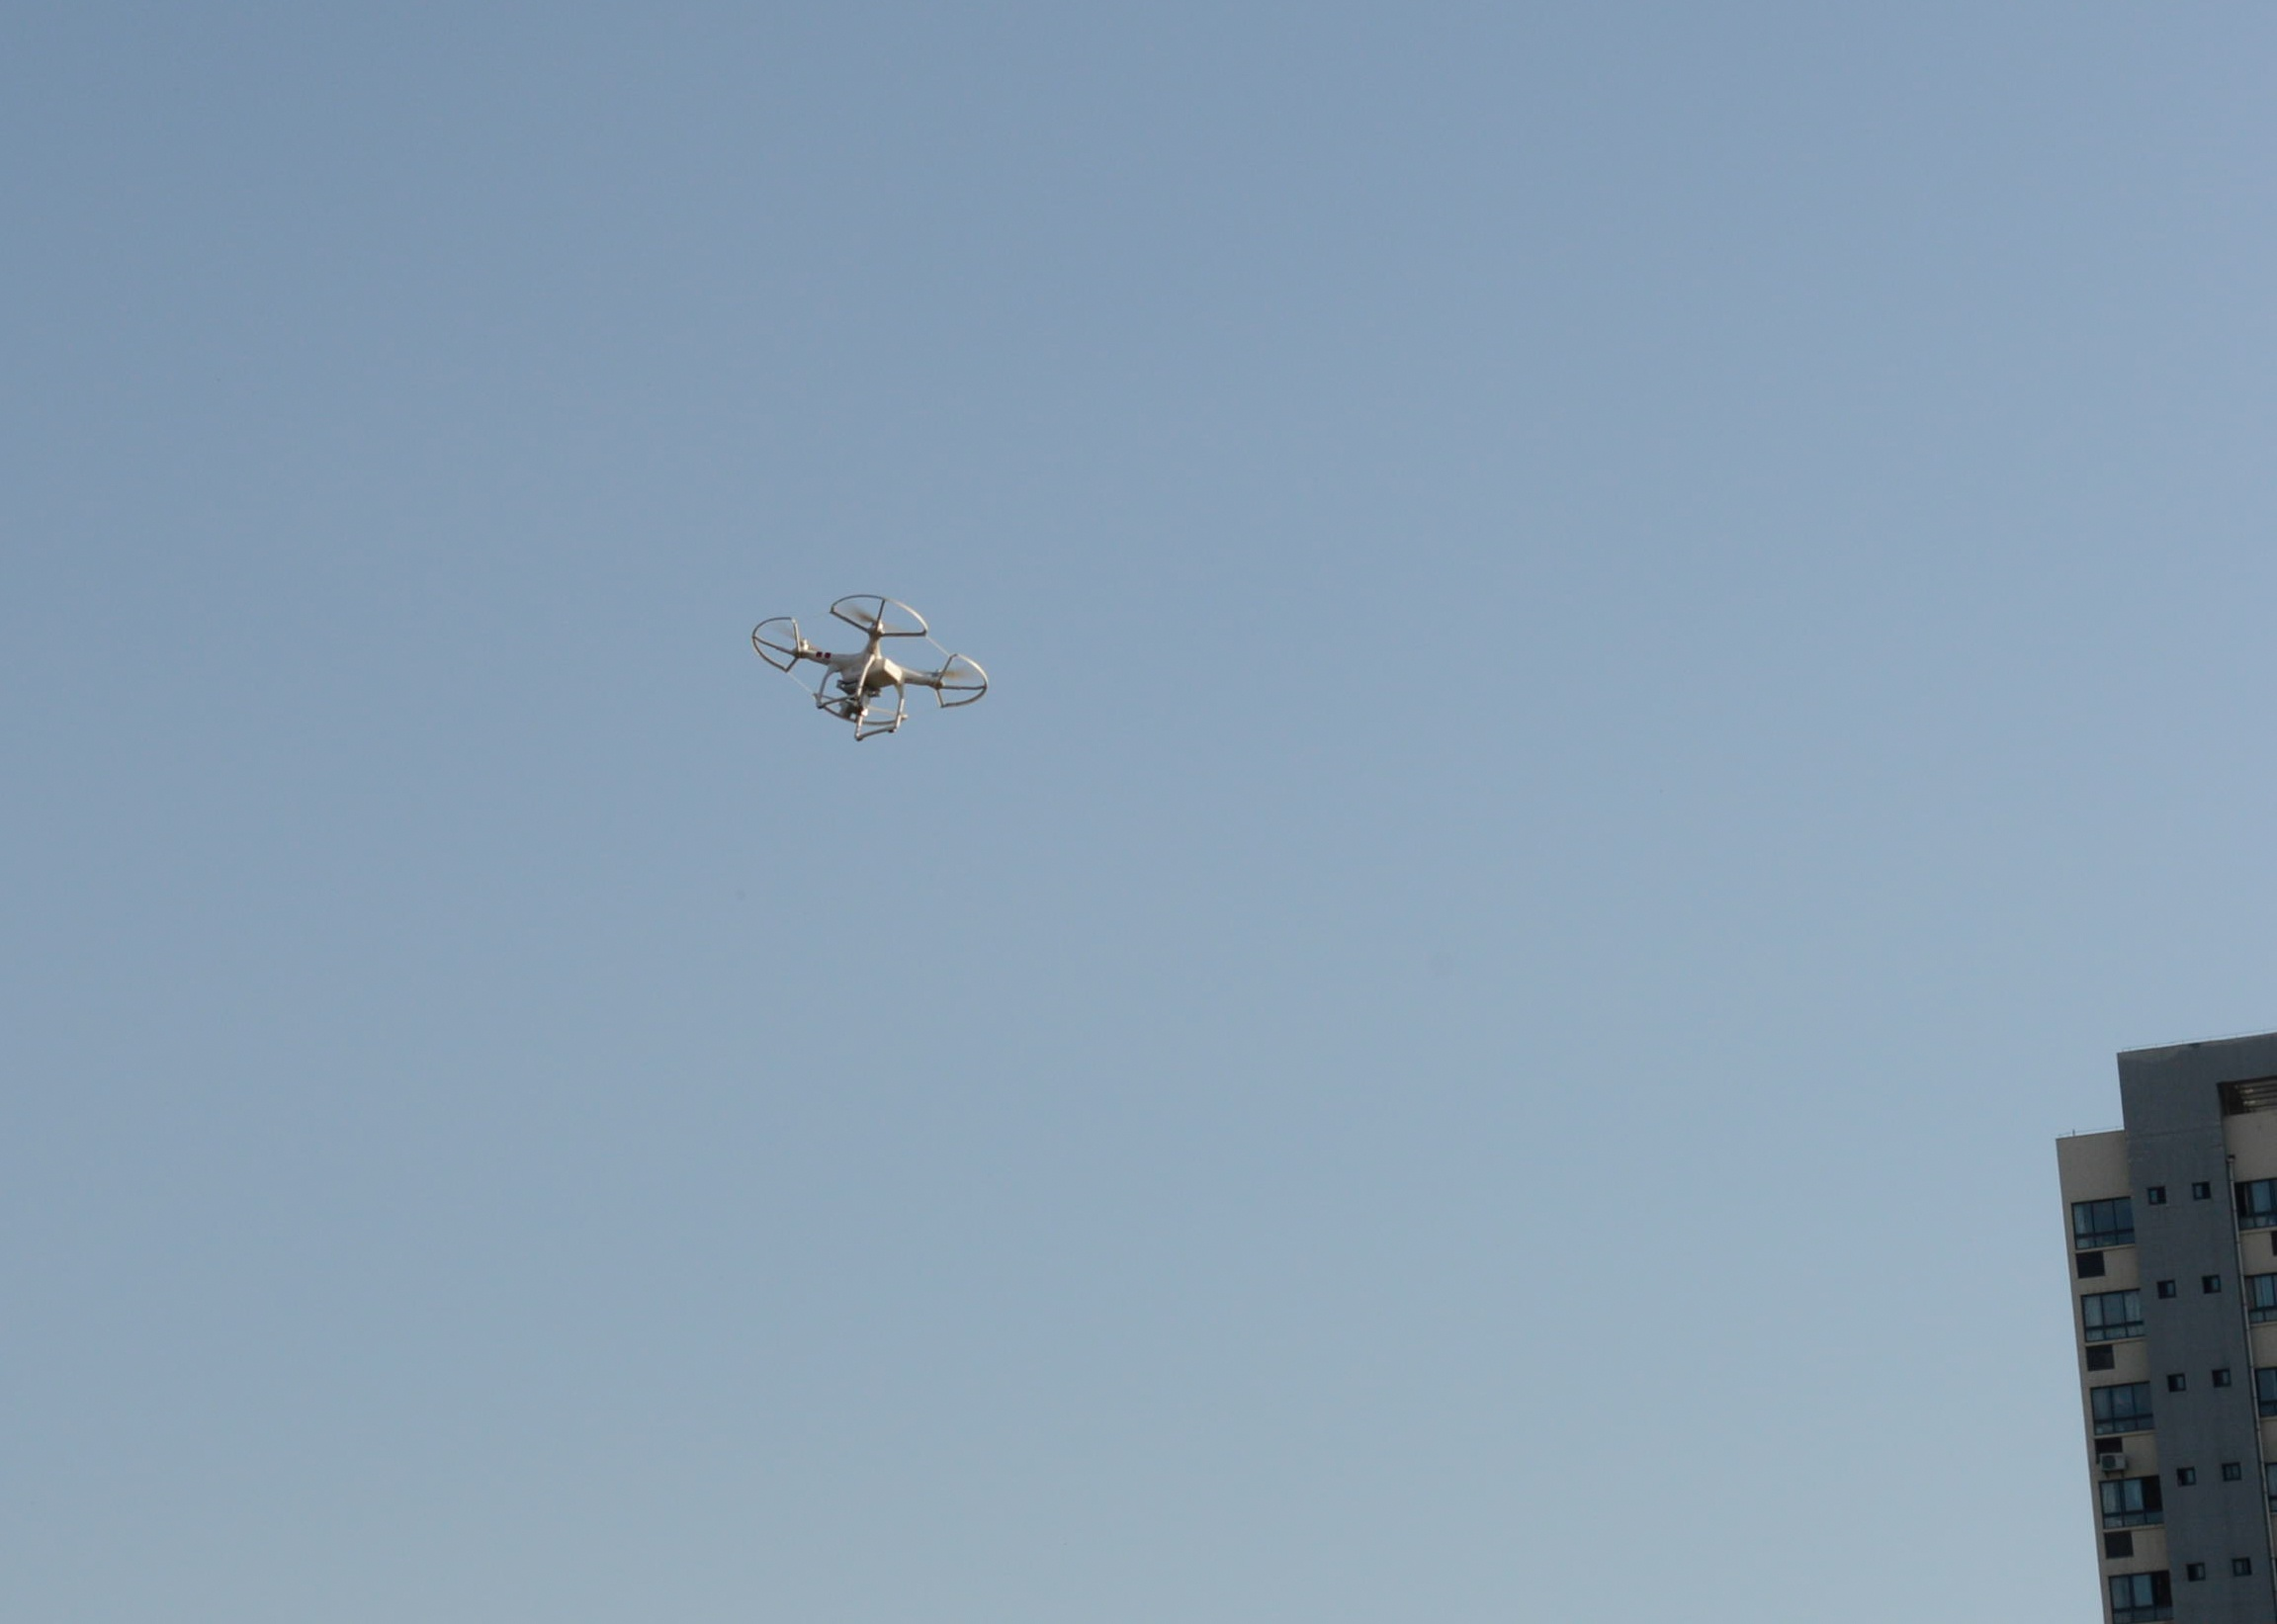DJI: (756, 587, 990, 745)
